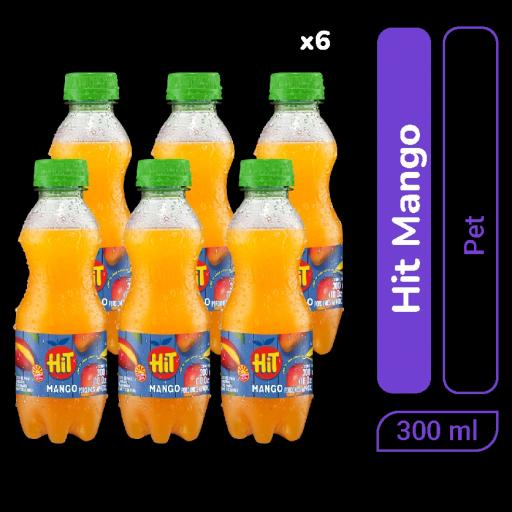JugoHM: (218, 156, 318, 452), (254, 67, 352, 360), (147, 72, 246, 361), (11, 156, 109, 446), (120, 154, 212, 442), (52, 71, 138, 361)
